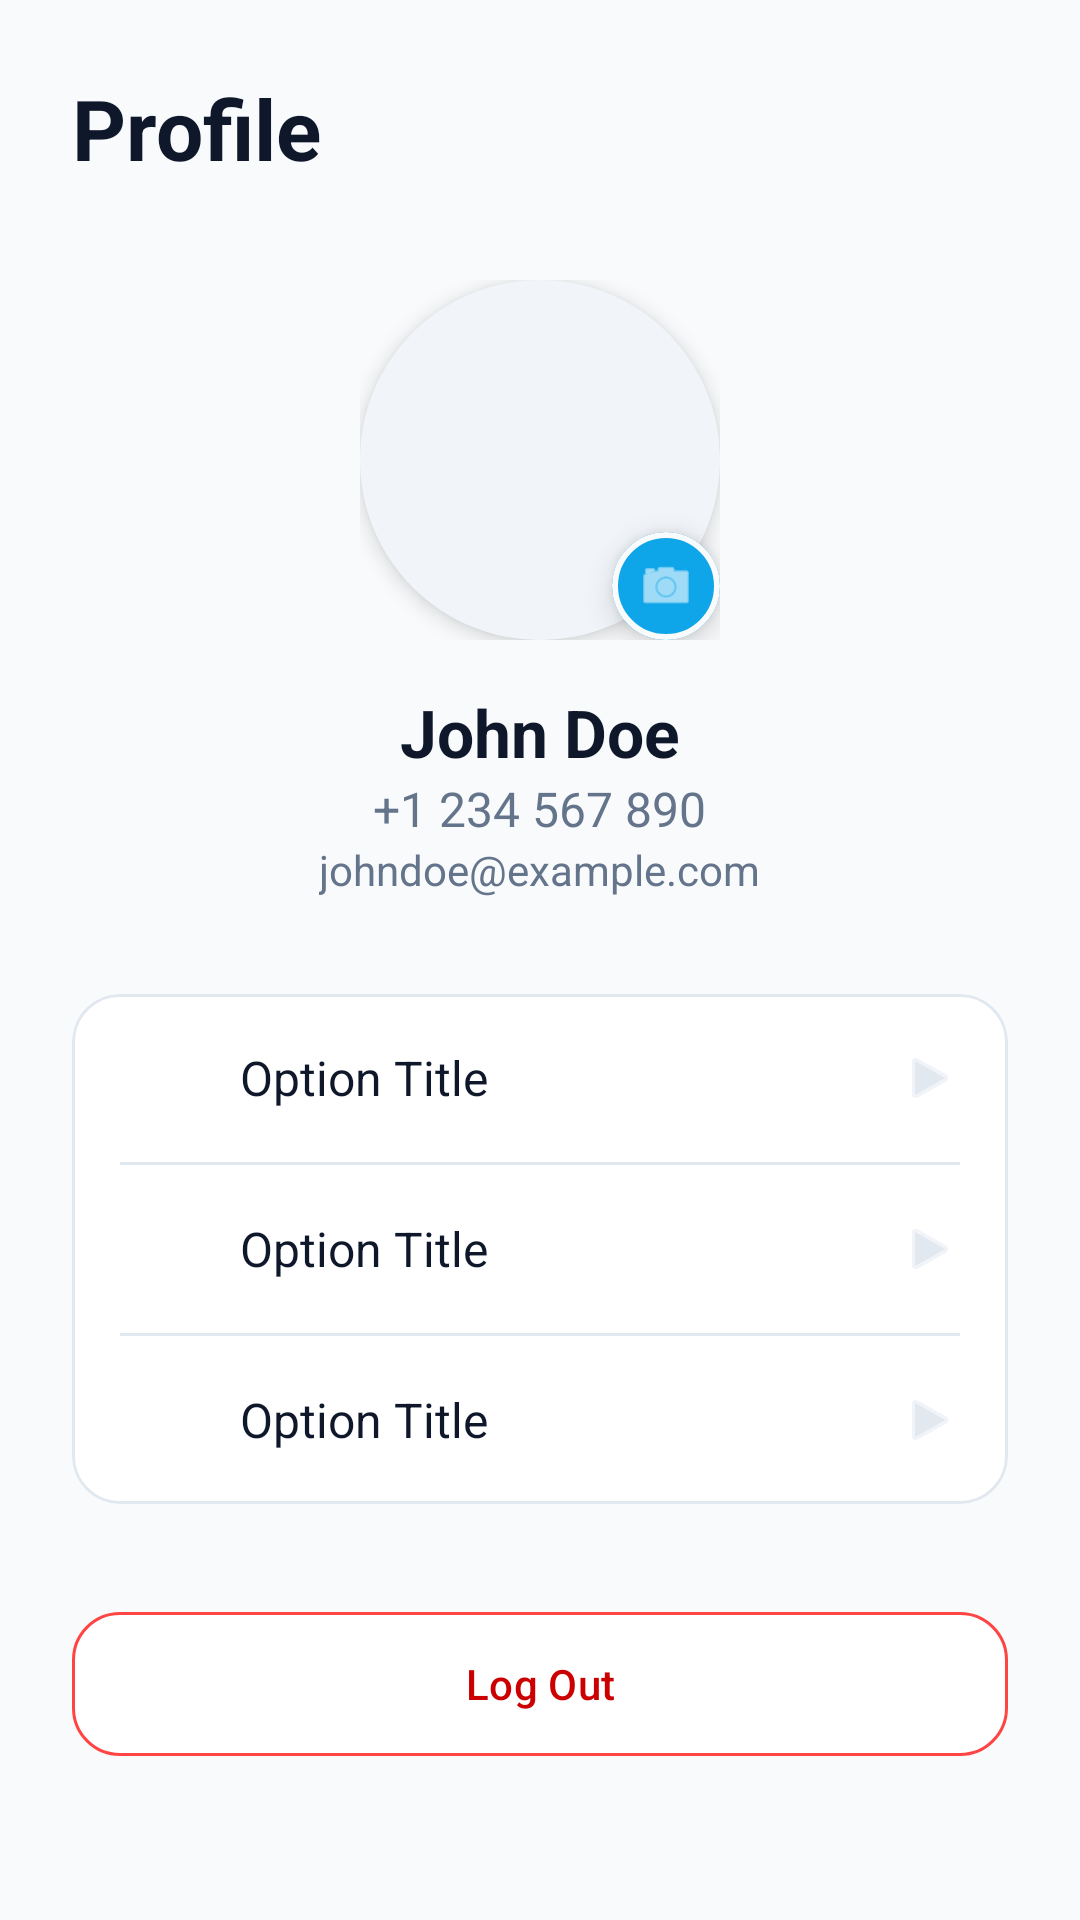

Point at icon controls on the screen. Image size 1080px x 1920px, points as (x=x, y=y).
camera: (x=669, y=586)
play: (x=929, y=1078), (x=929, y=1249), (x=929, y=1420)
